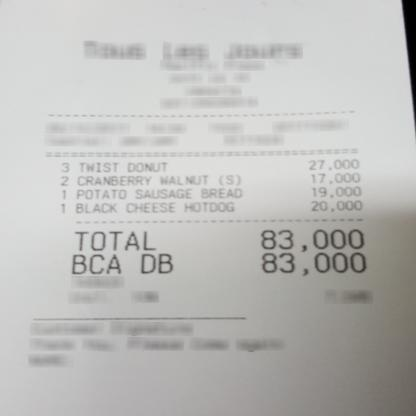receipts: (13, 8, 406, 387)
